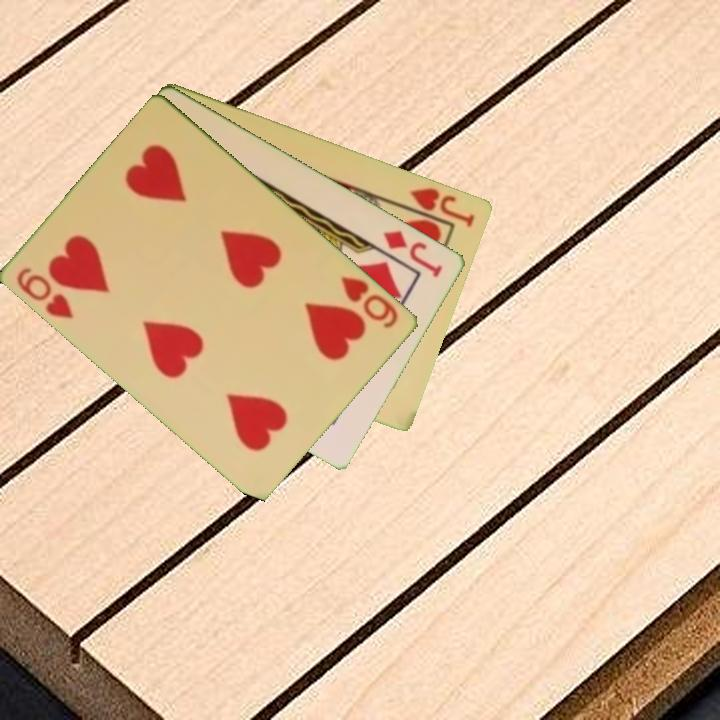6h: (338, 272, 402, 331), (14, 264, 77, 322)
Jd: (380, 226, 447, 280)
Jh: (407, 183, 478, 230)
